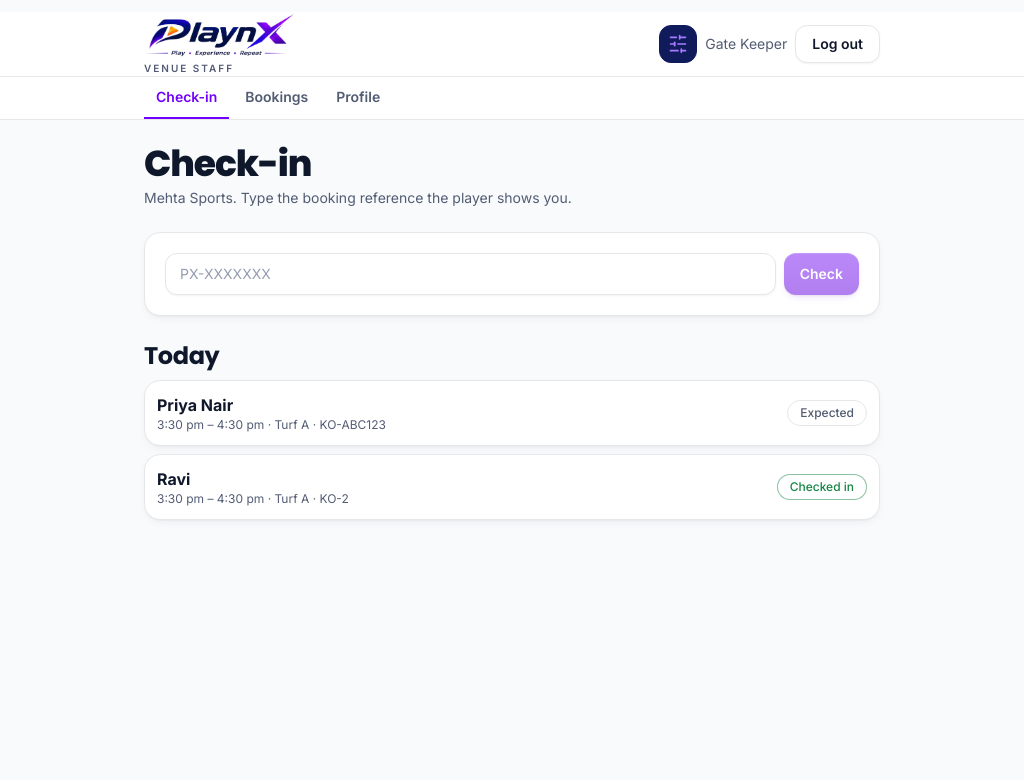
it: staff portal › checks a booking reference, shows who it is for, and checks them in once
Type "KO-ABC123" into the field named "Booking reference".
click(470, 274); type("KO-ABC123")  # box [165, 253, 776, 295]
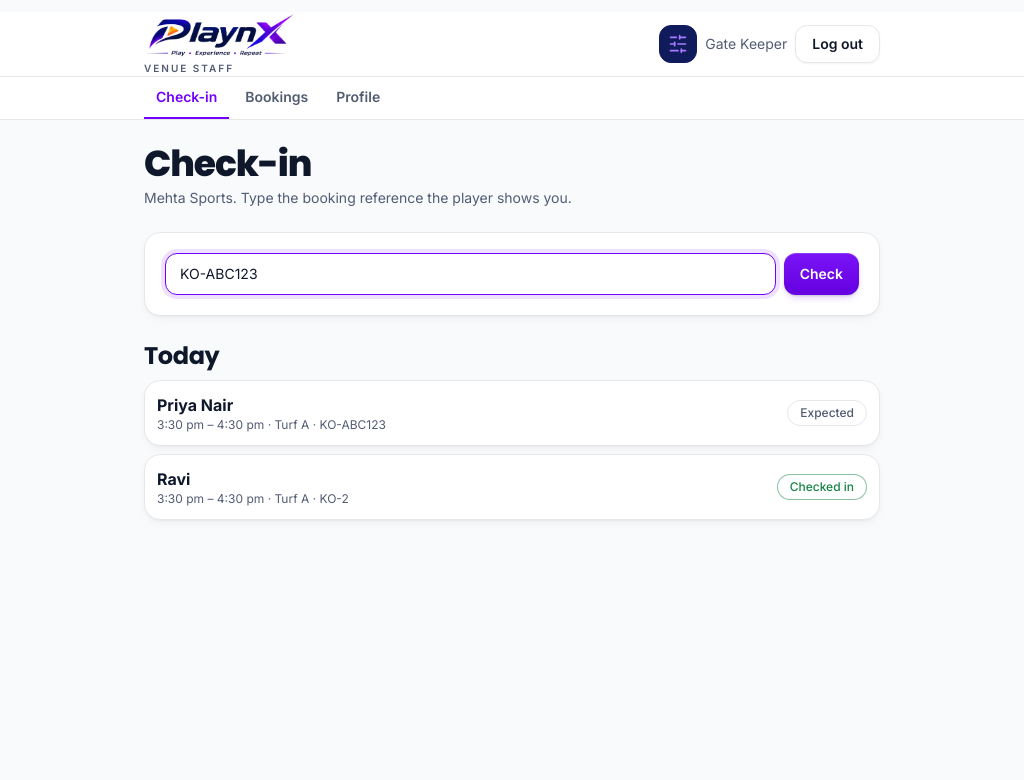
Click the button "Check".
click(821, 274)  # box [784, 253, 859, 295]
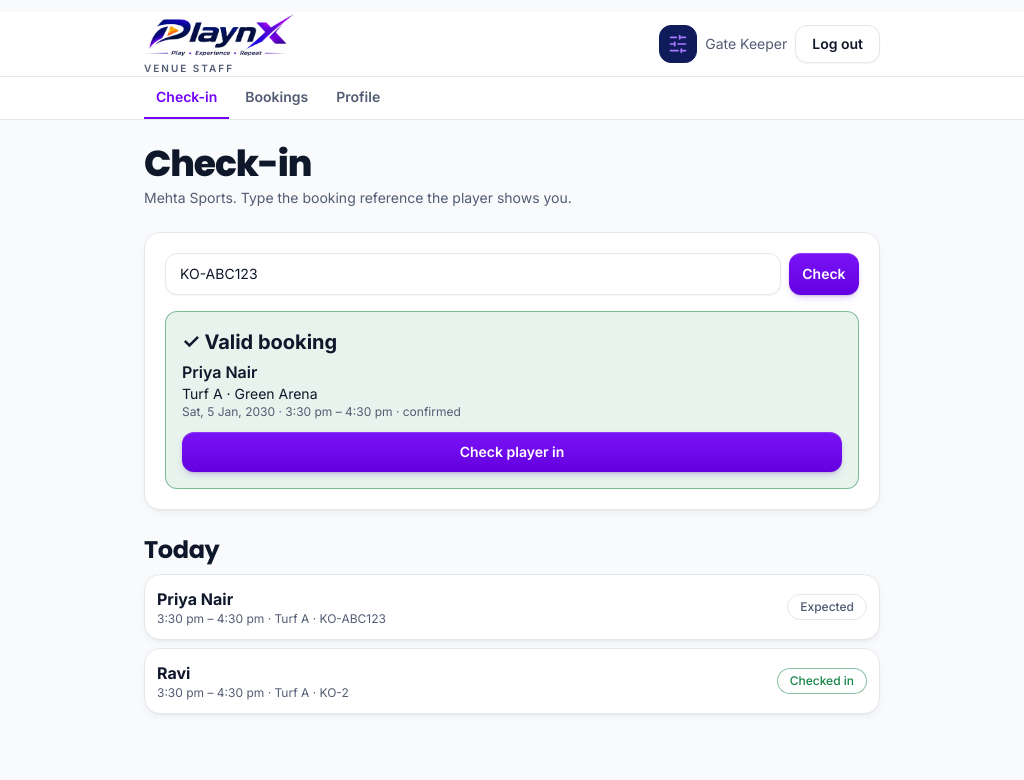
Now the message named "Check-in result" shows "✓ Valid booking", box [182, 330, 337, 354]
Now the message named "Check-in result" shows "Priya Nair", box [182, 362, 257, 382]
Now the message named "Check-in result" shows "Turf A · Green Arena", box [165, 311, 859, 489]
Click the button "Check player in".
click(512, 452)  # box [182, 432, 842, 472]
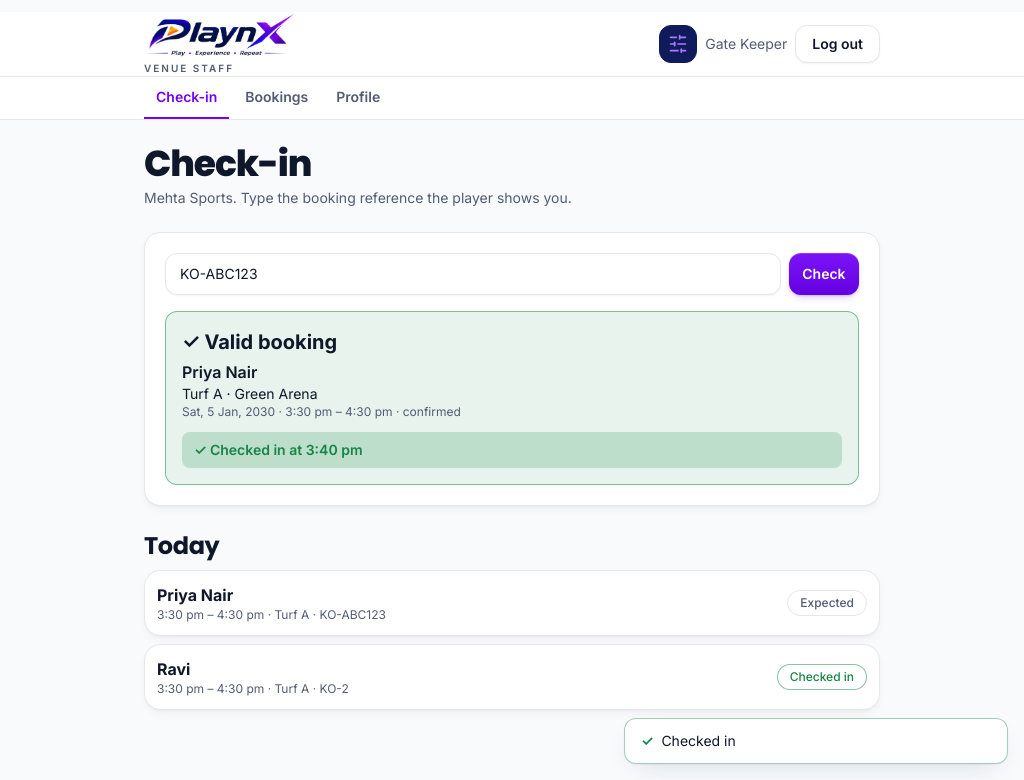
Now the text "✓ Checked in at 3:40 pm" is shown, box [182, 432, 842, 468]
